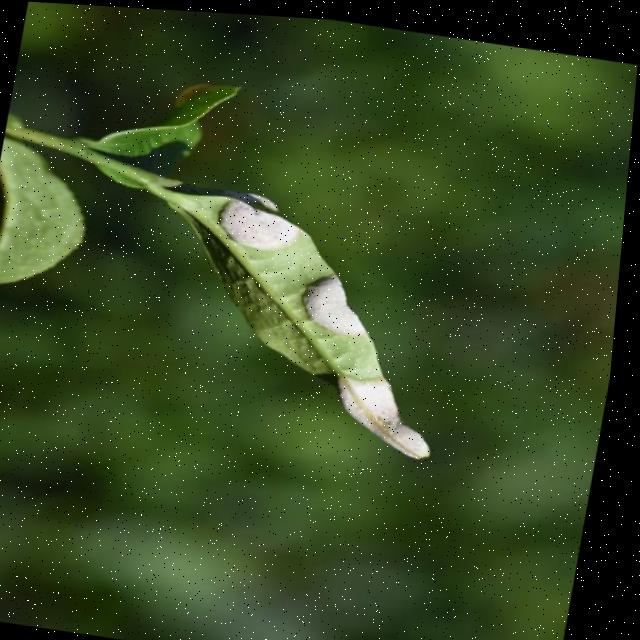Tea cake: (341, 370, 432, 459), (298, 263, 382, 338), (224, 188, 308, 257)
